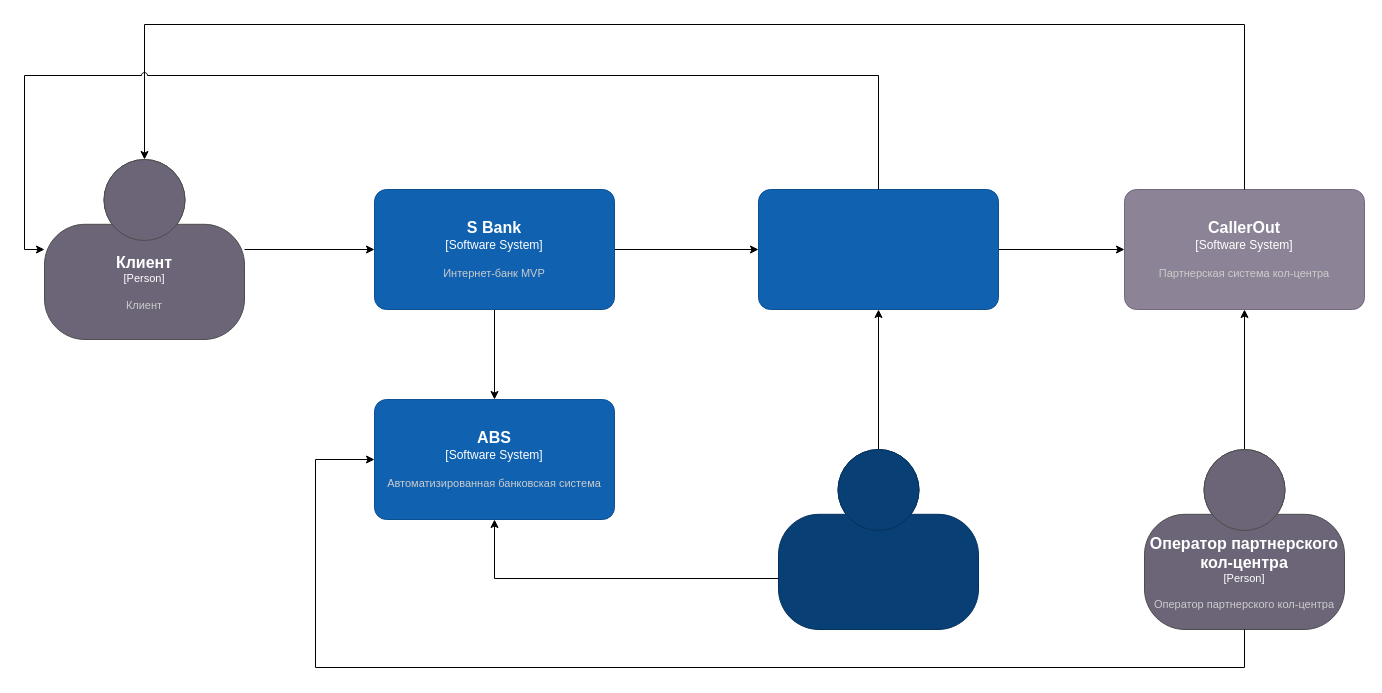
Some shapes in this 1382 by 693 pixel diagram are drawn without their labels. Here are the shapes that lost their labels. From the top down, the box of each, then its label:
(758, 188, 998, 310): CallerIn [Software System] Система кол-центра
(778, 448, 978, 630): Оператор кол-центра [Person] Оператор кол-центра
